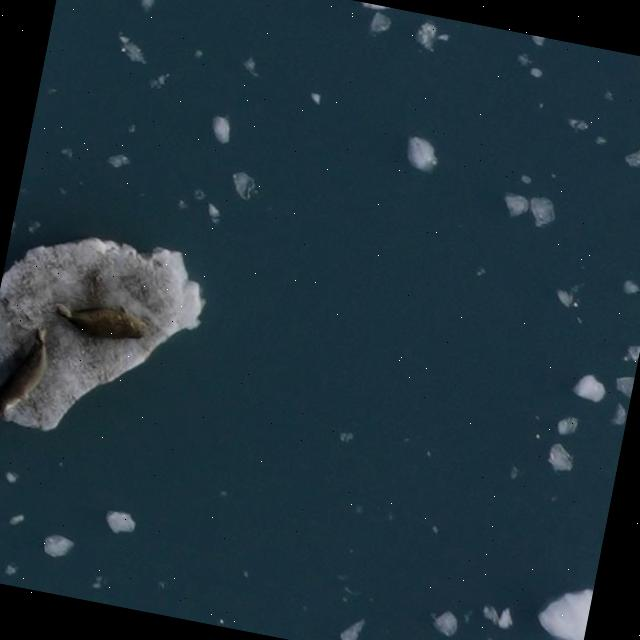seal: (0, 322, 65, 427), (47, 295, 152, 348)
